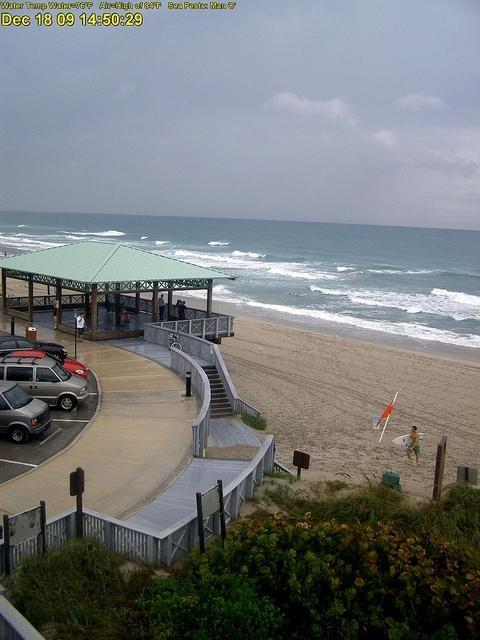car: (0, 358, 90, 412), (7, 352, 90, 379), (0, 336, 68, 358)
truck: (0, 378, 54, 446)
